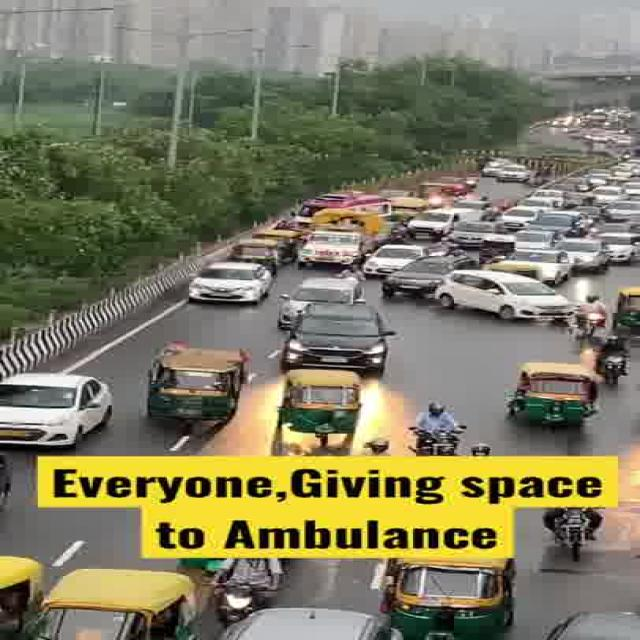ambulance: (283, 190, 414, 220)
